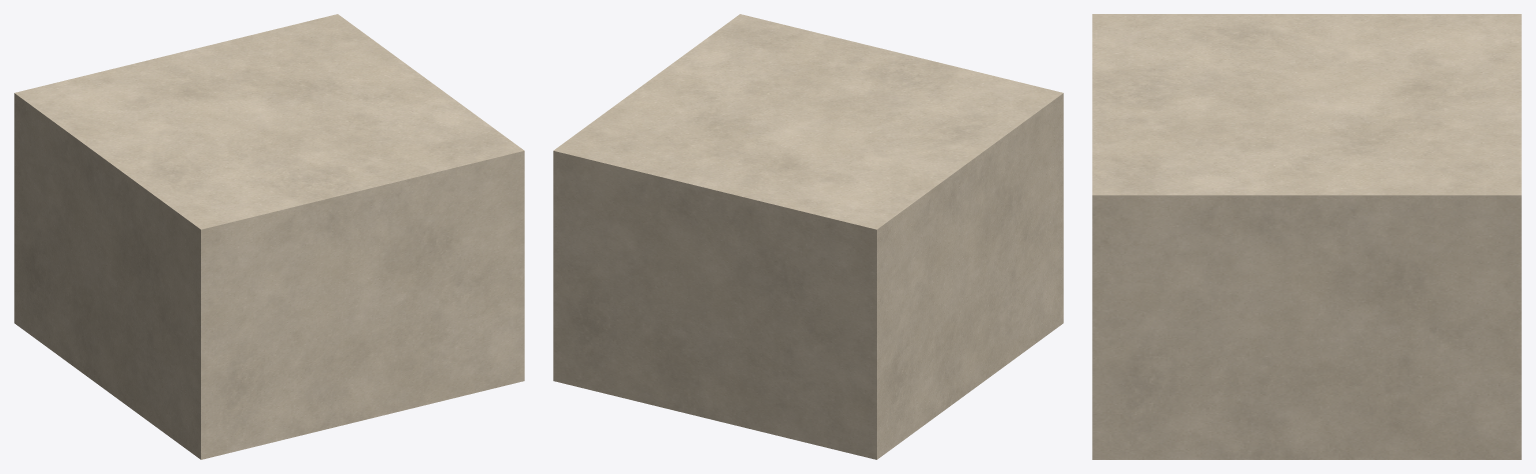
File: ShiGaoMuJu_FenMo.fbx
The picture shows the model from 3 angles, left to right: view 1: azimuth 30°, elevation 25°; view 2: azimuth 150°, elevation 25°; view 3: azimuth 270°, elevation 25°; orthographic projection. The views are drawn at different scales.
Visible parts, largest first — view 1: ShiGaoMuJu_FenMo; view 2: ShiGaoMuJu_FenMo; view 3: ShiGaoMuJu_FenMo.
Boxes of the visible parts, box(x1,y1,x2,y2) form: ShiGaoMuJu_FenMo: box(14, 14, 524, 459); ShiGaoMuJu_FenMo: box(553, 14, 1063, 459); ShiGaoMuJu_FenMo: box(1092, 14, 1521, 459).
Size of the model in its own units: 25 by 17 by 25.
Materials: 1 (1 with a texture image).
